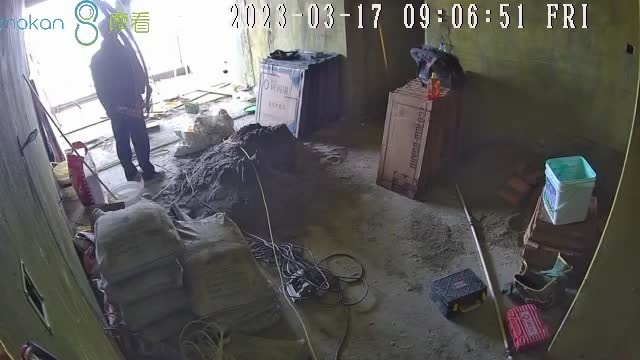people: (90, 18, 164, 184)
window: (22, 1, 222, 116)
